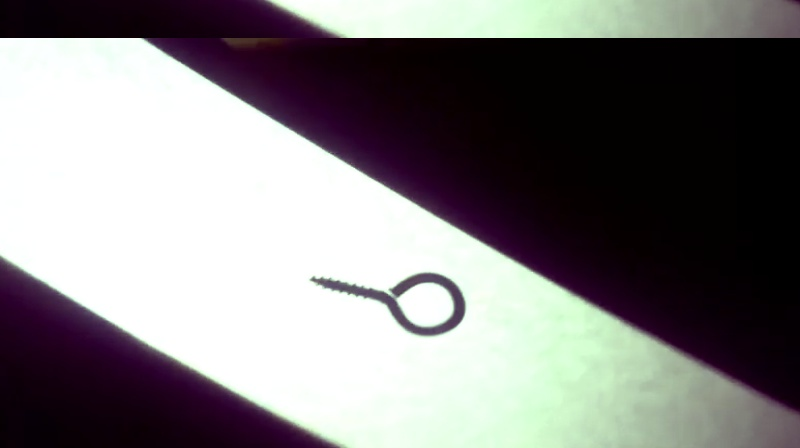O001: (304, 268, 468, 339)
